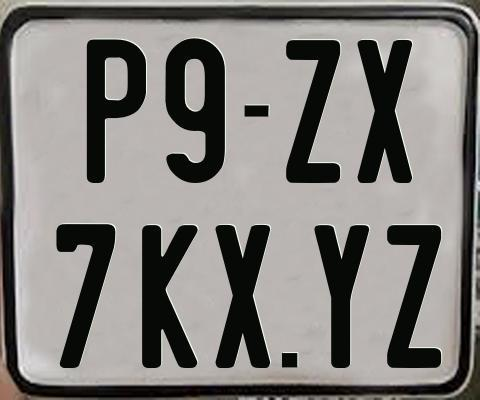7: (54, 222, 119, 372)
9: (162, 37, 226, 187)
K: (140, 225, 200, 374)
P: (84, 37, 146, 183)
X: (354, 39, 409, 182), (215, 222, 270, 365)
Y: (311, 224, 366, 367)
Z: (286, 37, 344, 186), (386, 222, 441, 371)
